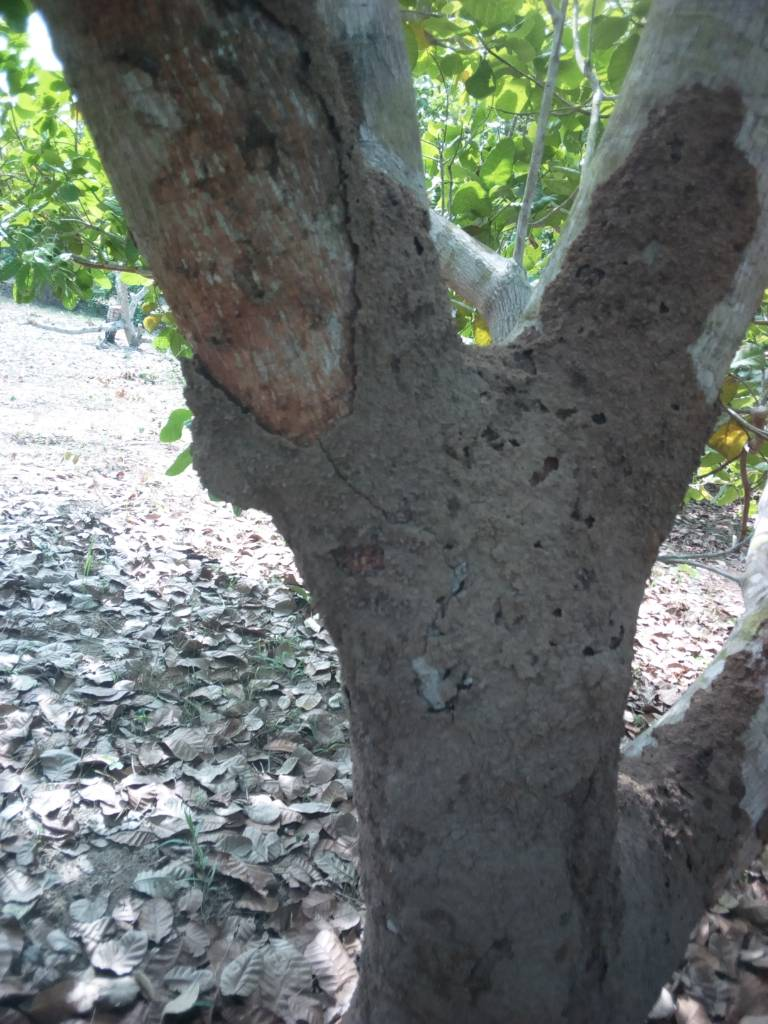Termites: (366, 630, 619, 1024), (366, 282, 655, 621), (238, 419, 368, 603), (619, 724, 735, 930), (599, 99, 757, 250)
